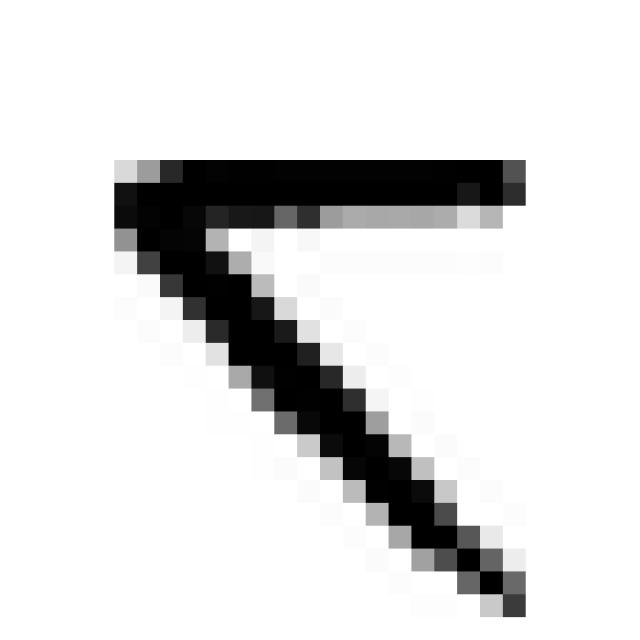2 -two-: (84, 135, 554, 640)
